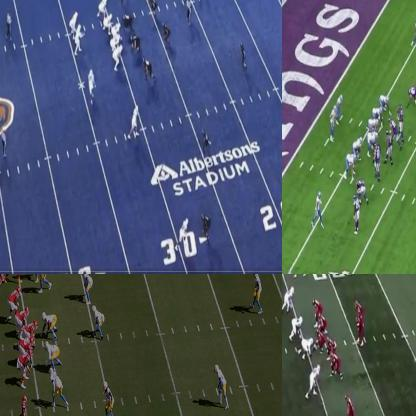CENTER: (109, 23, 124, 40), (23, 321, 40, 336), (314, 328, 325, 349), (367, 129, 377, 146)
DB: (214, 364, 228, 405), (252, 274, 264, 312), (352, 195, 362, 233), (200, 214, 212, 242), (202, 130, 210, 156), (241, 42, 246, 70)
LB: (90, 302, 104, 339), (104, 380, 116, 415), (82, 274, 94, 306), (36, 274, 50, 296), (282, 285, 292, 311), (386, 129, 392, 165), (397, 105, 404, 131), (163, 23, 170, 42), (149, 0, 157, 16)
QB: (357, 310, 365, 344), (330, 103, 338, 134), (76, 23, 83, 50)
SKILL: (312, 190, 323, 223), (178, 217, 189, 246), (130, 106, 139, 136), (345, 397, 358, 415), (18, 392, 28, 415), (89, 68, 95, 102), (70, 11, 79, 31), (379, 91, 389, 105), (10, 274, 24, 284), (0, 274, 4, 308), (356, 297, 364, 314), (412, 16, 415, 51), (337, 91, 344, 105)
